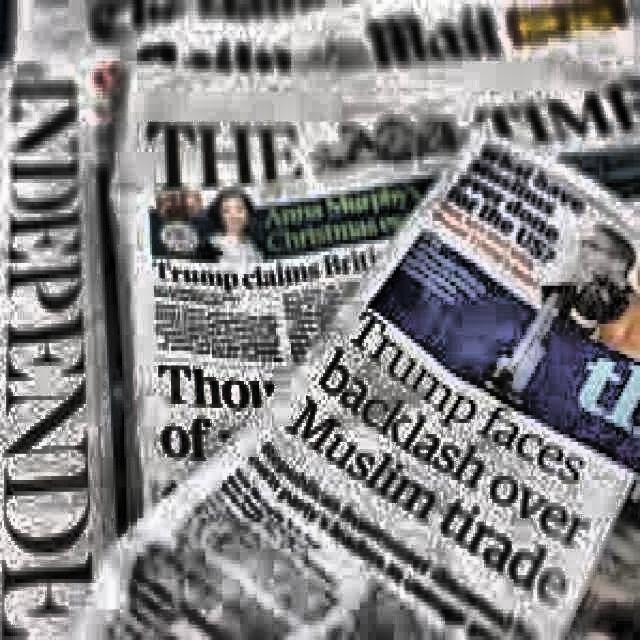Paper: (64, 118, 638, 636), (103, 23, 638, 522), (83, 0, 638, 149), (0, 46, 116, 636)
